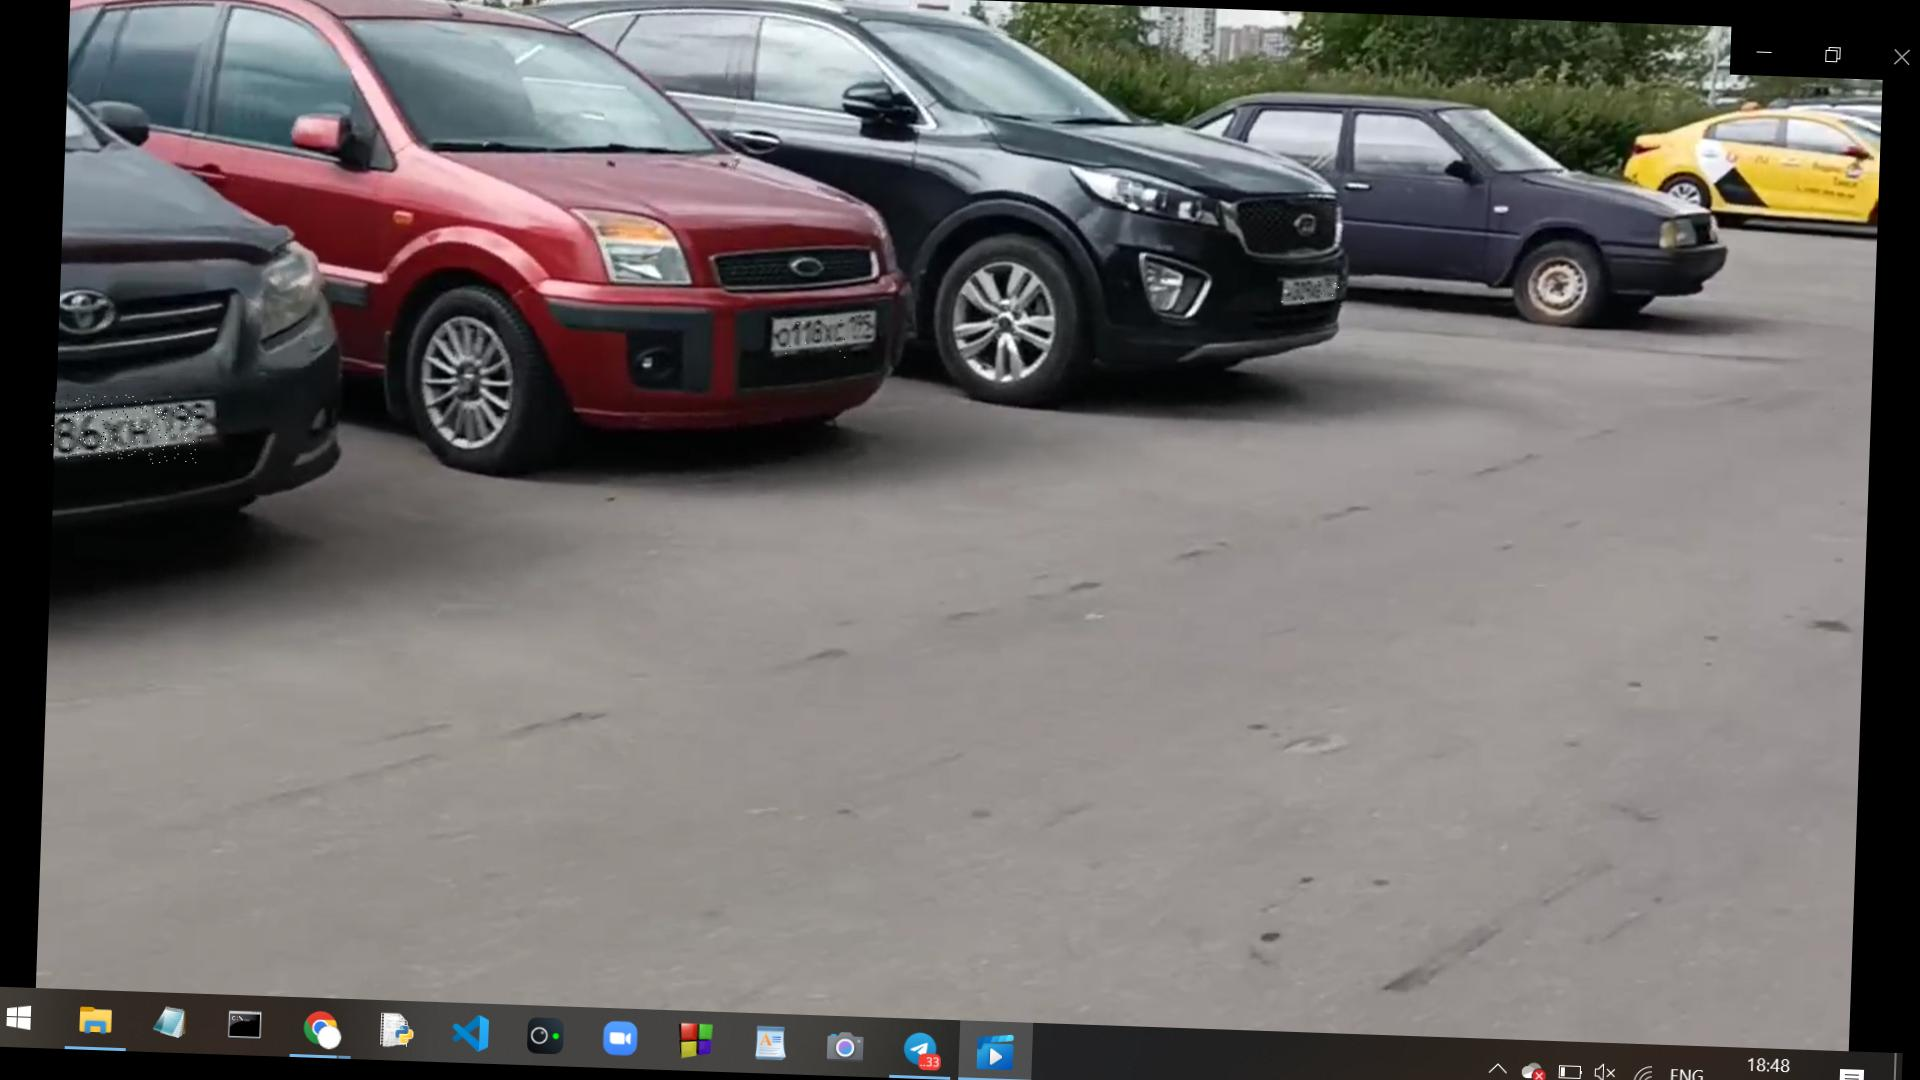plate: (51, 394, 204, 467), (775, 312, 865, 360), (1278, 276, 1347, 306)
